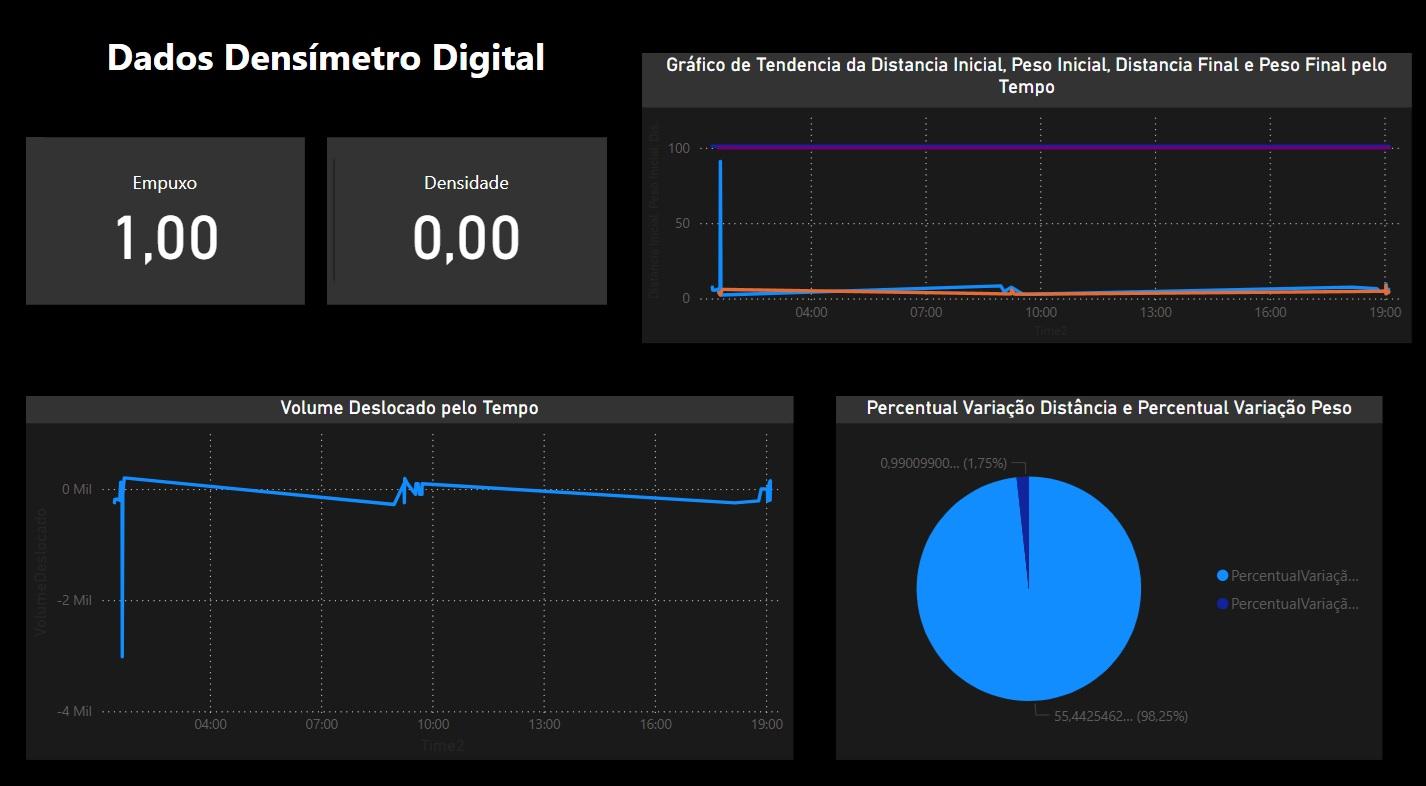

What the dashboard file says about the page in this screenshot:
{"tool":"powerbi","page":{"name":"Página 1","canvas":[1280,720],"ordinal":0},"visuals":[{"type":"cardVisual","fields":{"Data":["feeds.Densidade"]},"box":[294.4,131.1,246.7,147.8],"z":0},{"type":"lineChart","title":"Gráfico de Tendencia da Distancia Inicial, Peso Inicial, Distancia Final e Peso Final pelo Tempo","fields":{"Category":["feeds.Time2"],"Y":["Sum(feeds.feeds.field1)","Sum(feeds.feeds.field2)","Sum(feeds.feeds.field3)","Sum(feeds.feeds.field4)"]},"box":[572.2,57.8,678.9,255.6],"z":1000},{"type":"pieChart","title":"Percentual Variação Distância e Percentual Variação Peso","fields":{"Y":["feeds.PercentualVariaçãoDistância","feeds.PercentualVariaçãoPeso"]},"box":[743.3,360,482.2,321.1],"z":2000},{"type":"cardVisual","fields":{"Data":["feeds.Empuxo"]},"box":[28.9,131.1,245.6,147.8],"z":3000},{"type":"lineChart","title":"Volume Deslocado pelo Tempo","fields":{"Y":["feeds.VolumeDeslocado"],"Category":["feeds.Time2"]},"box":[28.9,360,676.7,321.1],"z":4000},{"type":"textbox","box":[45.6,32.2,495.6,98.9],"z":5000}]}

Visuals, with their boxes in screenshot pixels (x1, y1, x2, y2), scaled from the page's 1280x720 canvas onto the 1426x786 screenshot:
cardVisual - feeds.Densidade: bbox=[328, 143, 603, 304]
"Gráfico de Tendencia da Distancia Inicial, Peso Inicial, Distancia Final e Peso Final pelo Tempo" lineChart: bbox=[637, 63, 1394, 342]
"Percentual Variação Distância e Percentual Variação Peso" pieChart: bbox=[828, 393, 1365, 744]
cardVisual - feeds.Empuxo: bbox=[32, 143, 306, 304]
"Volume Deslocado pelo Tempo" lineChart: bbox=[32, 393, 786, 744]
textbox: bbox=[51, 35, 603, 143]
